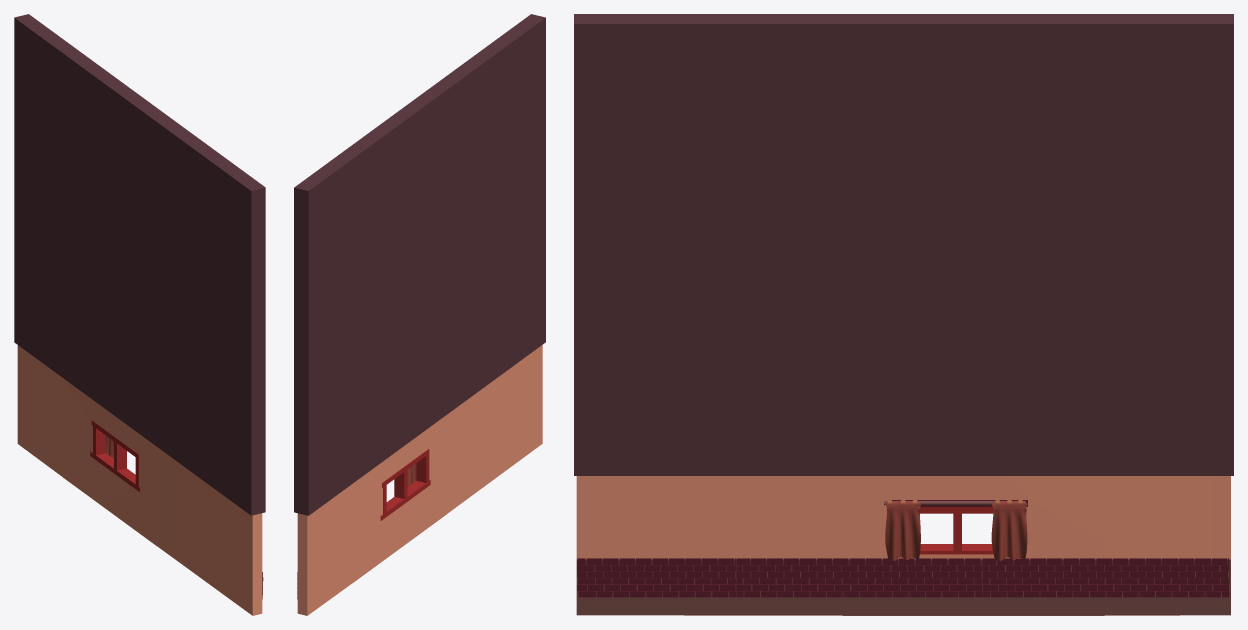
Rendered from Parede-Esquerda.fbx.
3 views of the same model, side by side, from view 1: azimuth 30°, elevation 25°; view 2: azimuth 150°, elevation 25°; view 3: azimuth 270°, elevation 25° (orthographic). The views are drawn at different scales.
Visible parts, largest first — view 1: Cube.001; view 2: Cube.001; view 3: Cube.001.
Part boxes in pixels (bbox=[...]): Cube.001: bbox=[14, 14, 265, 615]; Cube.001: bbox=[294, 14, 545, 615]; Cube.001: bbox=[574, 14, 1233, 615].
Size of the model in its own units: 0.6925 by 15.97 by 16.09.
